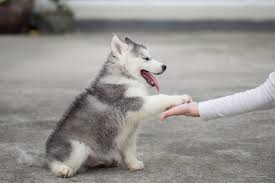Siberian Husky: (29, 29, 179, 181)
